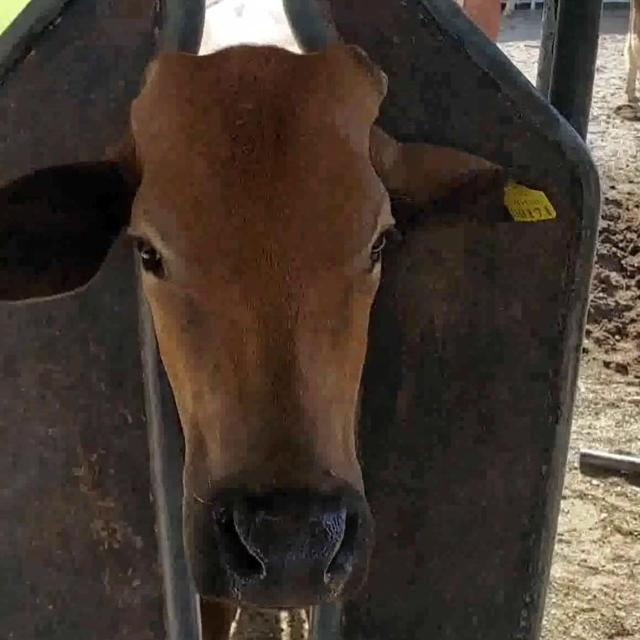cowFace: (129, 46, 393, 612)
